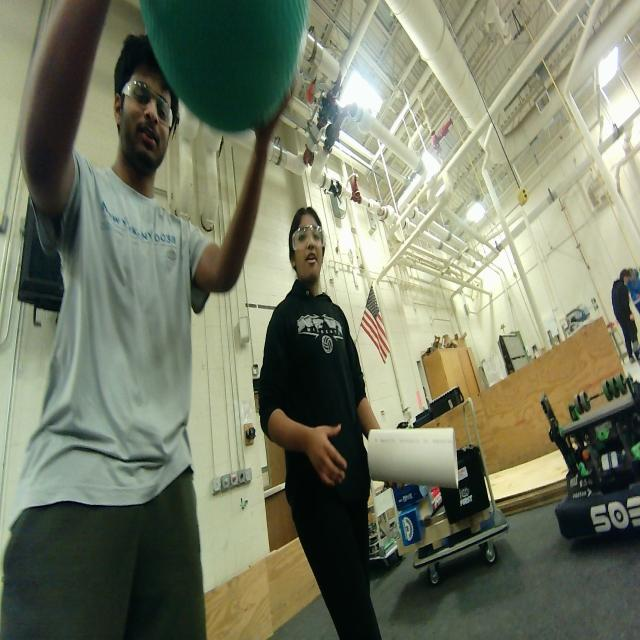algae: (140, 0, 308, 134), (439, 388, 467, 409)
coral: (367, 420, 461, 497)
